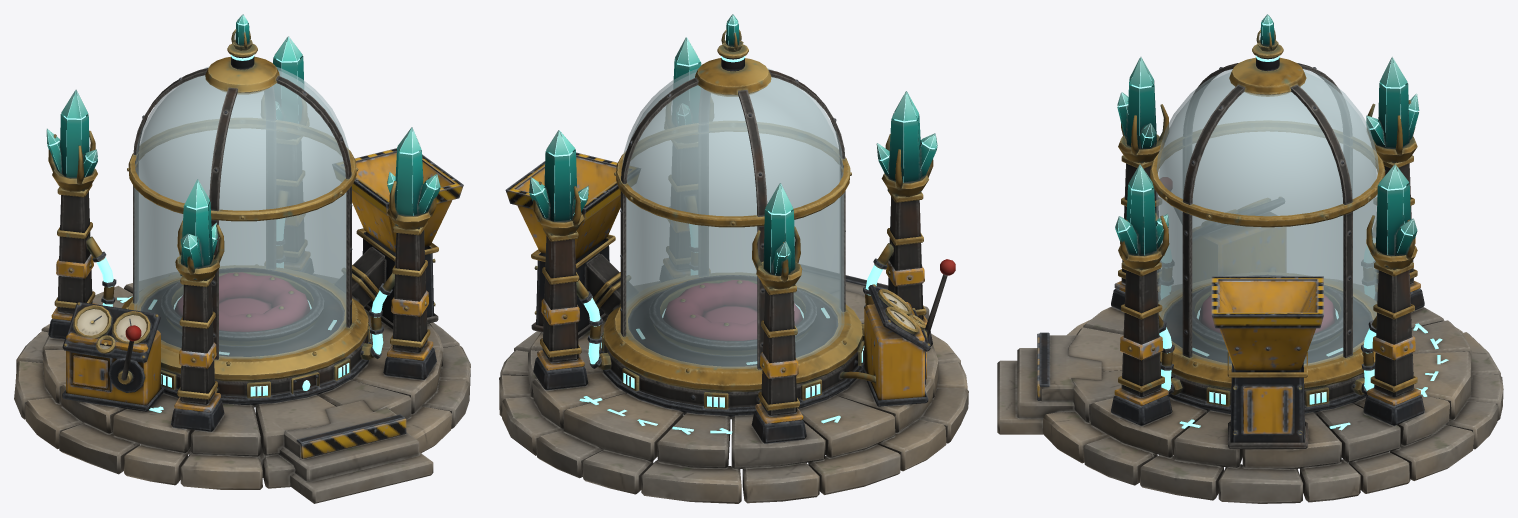
File: hatchery.fbx
3 renders of one model, left to right at view 1: azimuth 30°, elevation 25°; view 2: azimuth 150°, elevation 25°; view 3: azimuth 270°, elevation 25°, orthographic. The views are drawn at different scales.
Visible parts, largest first — view 1: Hatchery_Body, Hatchery_Glass, Hatchery_GLOW; view 2: Hatchery_Body, Hatchery_Glass, Hatchery_GLOW; view 3: Hatchery_Body, Hatchery_Glass, Hatchery_GLOW.
Part boxes in pixels (box(x1,y1,x2,y2)): Hatchery_Body: box(14, 14, 470, 503); Hatchery_Glass: box(134, 67, 350, 358); Hatchery_GLOW: box(48, 15, 438, 412); Hatchery_Body: box(499, 14, 968, 503); Hatchery_Glass: box(622, 68, 844, 368); Hatchery_GLOW: box(531, 16, 935, 434); Hatchery_Body: box(997, 14, 1503, 503); Hatchery_Glass: box(1156, 69, 1378, 366); Hatchery_GLOW: box(1118, 16, 1448, 430).
Bounding box in the file's own units: 9.51 × 8.71 × 10.2.
Materials: 3 (1 with a texture image).
